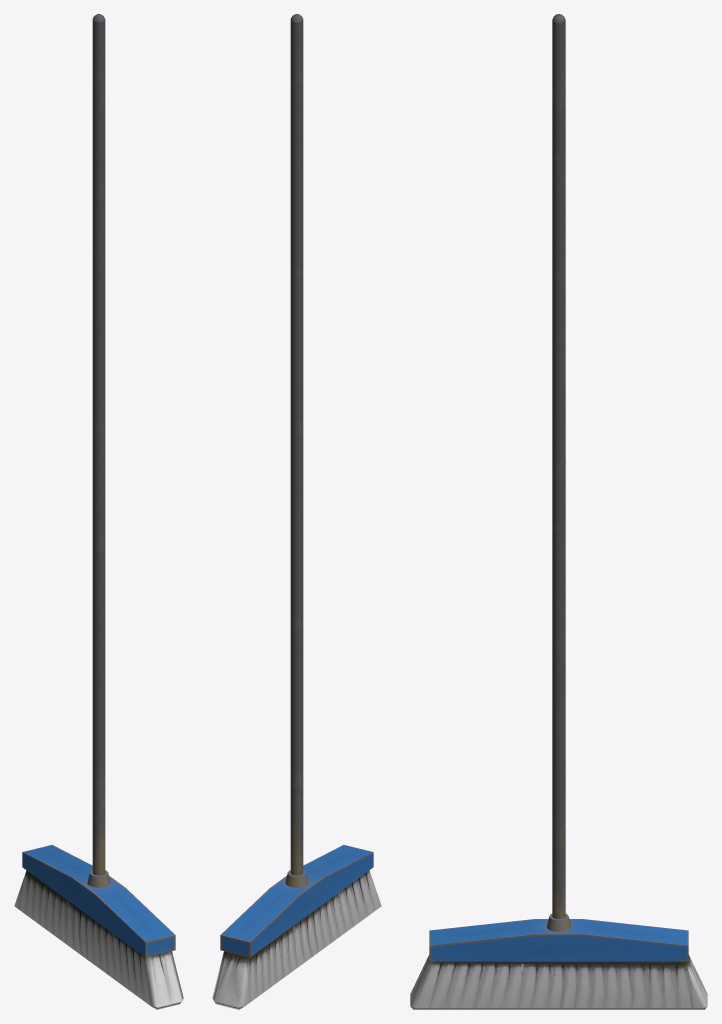
File: CR_Broom.fbx
3 views of the same model, side by side, from view 1: azimuth 30°, elevation 25°; view 2: azimuth 150°, elevation 25°; view 3: azimuth 270°, elevation 25° (orthographic). The views are drawn at different scales.
Visible parts, largest first — view 1: Broom; view 2: Broom; view 3: Broom.
Boxes of the visible parts, x1=… form: Broom: x1=14, y1=14, x2=183, y2=1009; Broom: x1=212, y1=14, x2=381, y2=1009; Broom: x1=410, y1=14, x2=707, y2=1009.
Size of the model in its own units: 5.59 by 153 by 41.84.
